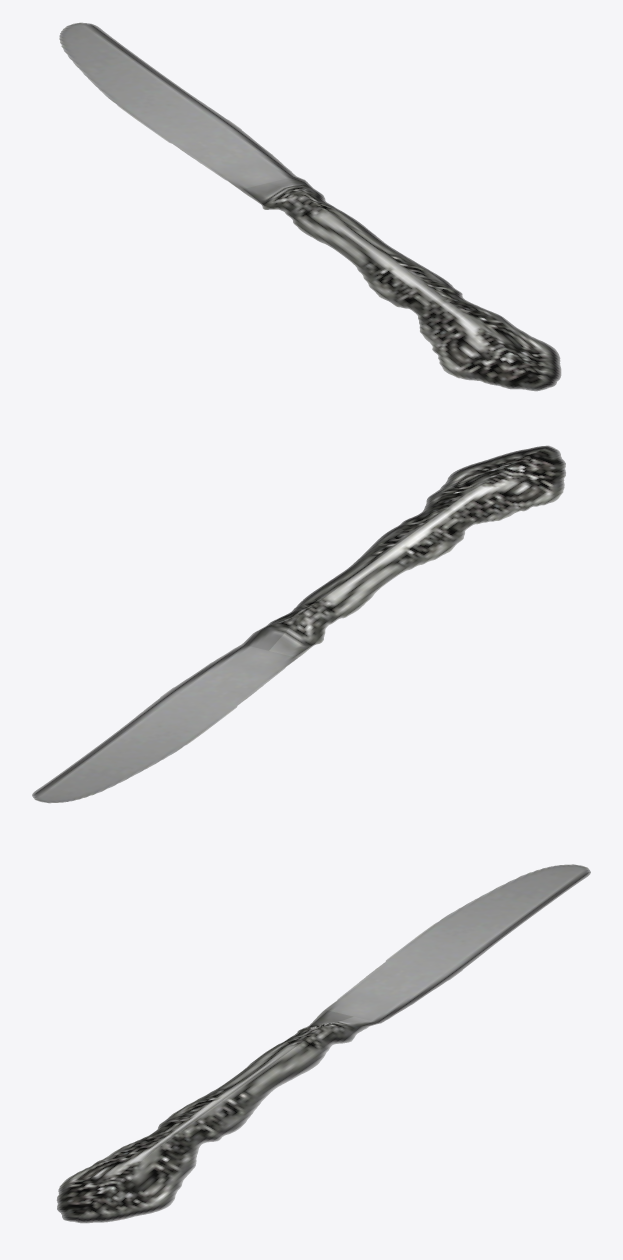
File: Knife_Table.fbx
The picture shows the model from 3 angles, top to bottom: view 1: azimuth 30°, elevation 25°; view 2: azimuth 150°, elevation 25°; view 3: azimuth 330°, elevation 25°; orthographic projection.
Parts seen in each view (by area): view 1: Knife_Table_LOD0; view 2: Knife_Table_LOD0; view 3: Knife_Table_LOD0.
Boxes of the visible parts, bbox=[...] form: Knife_Table_LOD0: bbox=[59, 22, 561, 391]; Knife_Table_LOD0: bbox=[32, 445, 565, 803]; Knife_Table_LOD0: bbox=[56, 864, 590, 1223].
Size of what is drawn, in the model's own units: 8.61 by 1.51 by 62.7.
